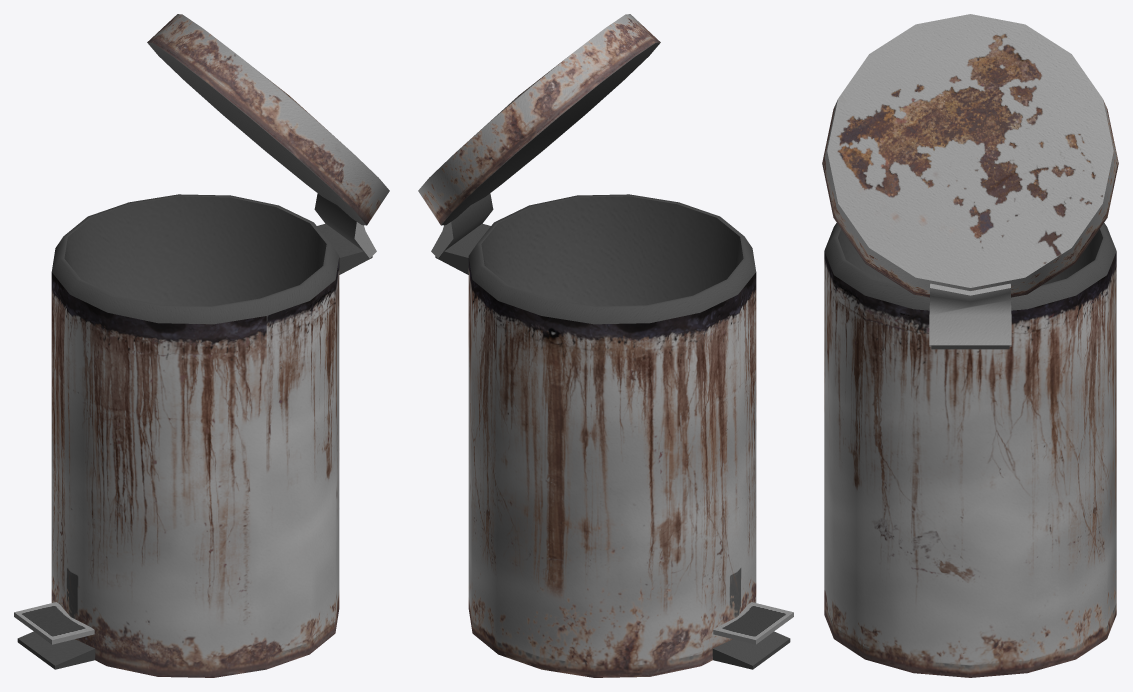
The model's file is can.glb.
3 views of the same model, side by side, from view 1: azimuth 30°, elevation 25°; view 2: azimuth 150°, elevation 25°; view 3: azimuth 270°, elevation 25° (orthographic). The views are drawn at different scales.
Visible parts, largest first — view 1: Model; view 2: Model; view 3: Model.
Part boxes in pixels (x1=…): Model: x1=14, y1=14, x2=389, y2=677; Model: x1=418, y1=14, x2=793, y2=677; Model: x1=822, y1=14, x2=1118, y2=677.
Size of the model in its own units: 2.66 by 4.5 by 2.
1 material, 1 textured.
